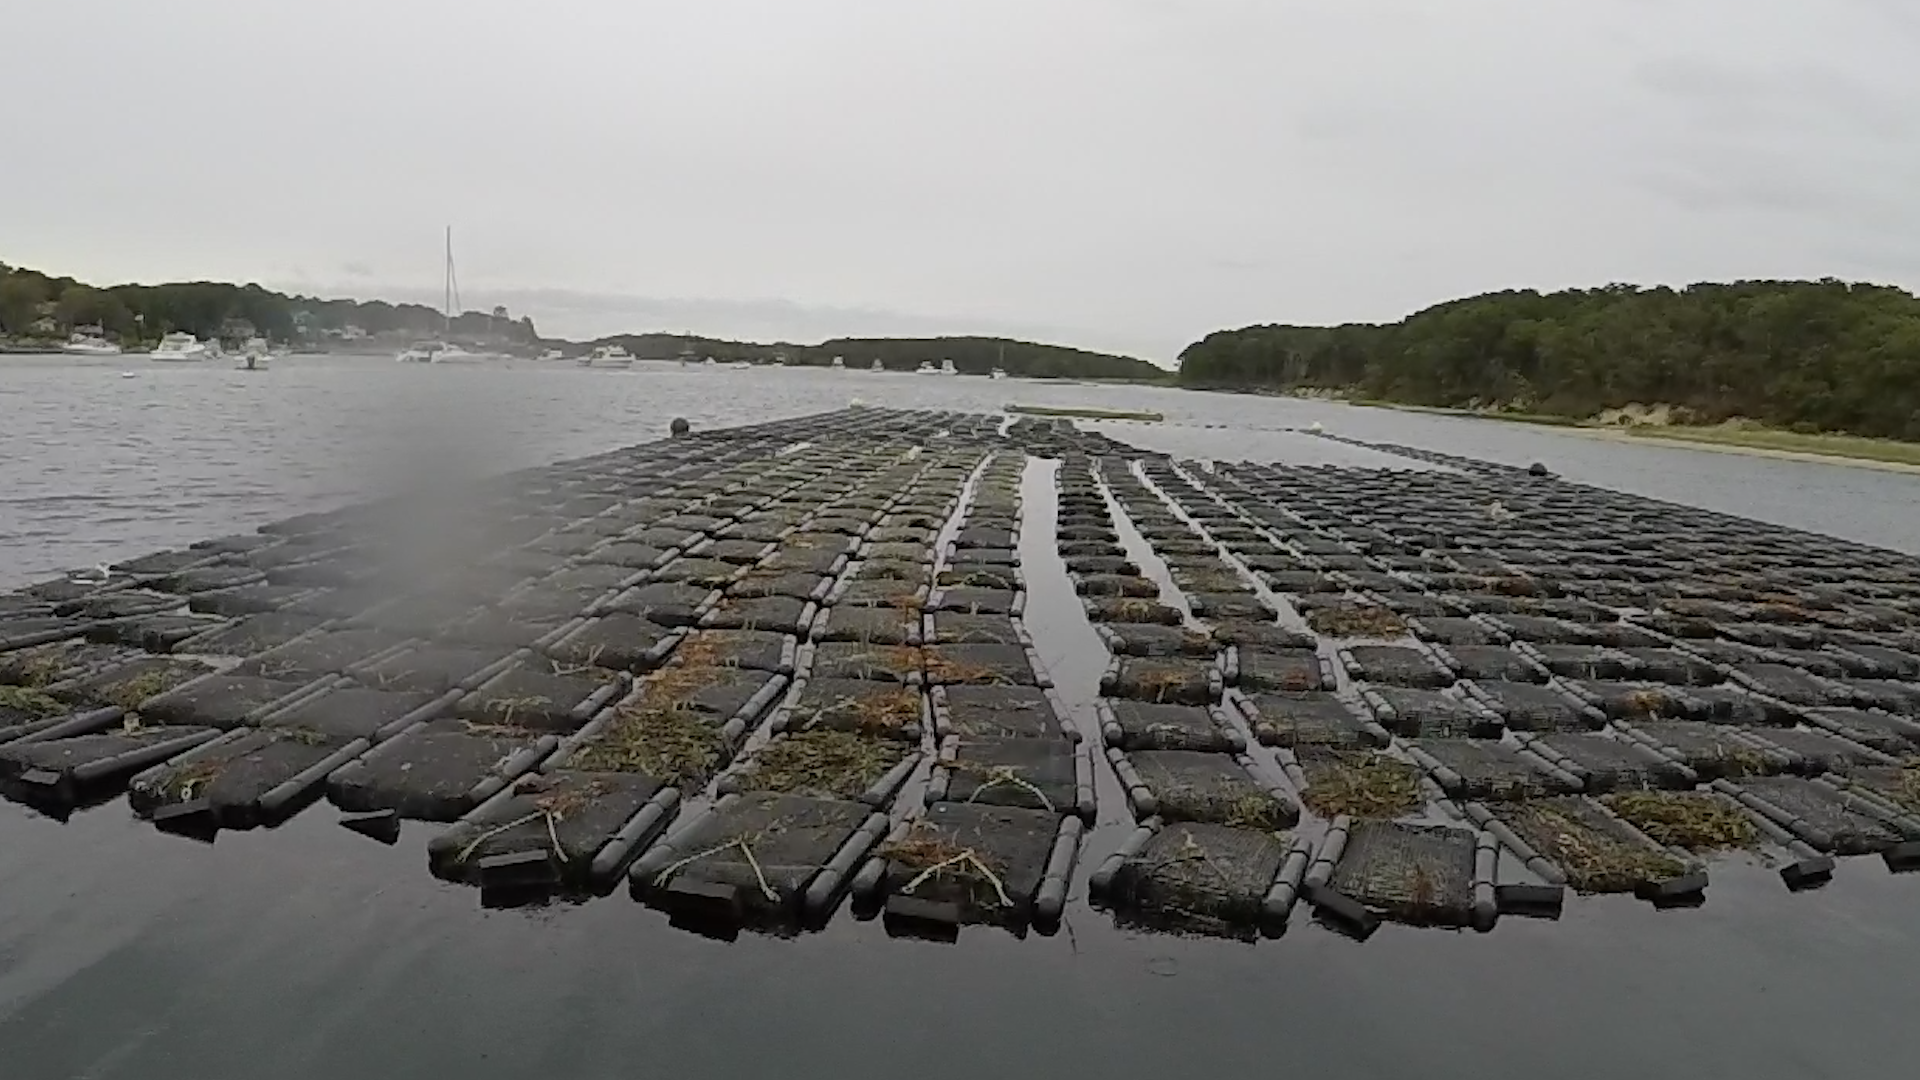bag: (845, 793, 1083, 931), (626, 796, 891, 914), (1095, 812, 1307, 942), (1299, 812, 1503, 936), (1468, 793, 1712, 894), (1102, 742, 1298, 820), (717, 728, 924, 798), (924, 729, 1097, 808)
